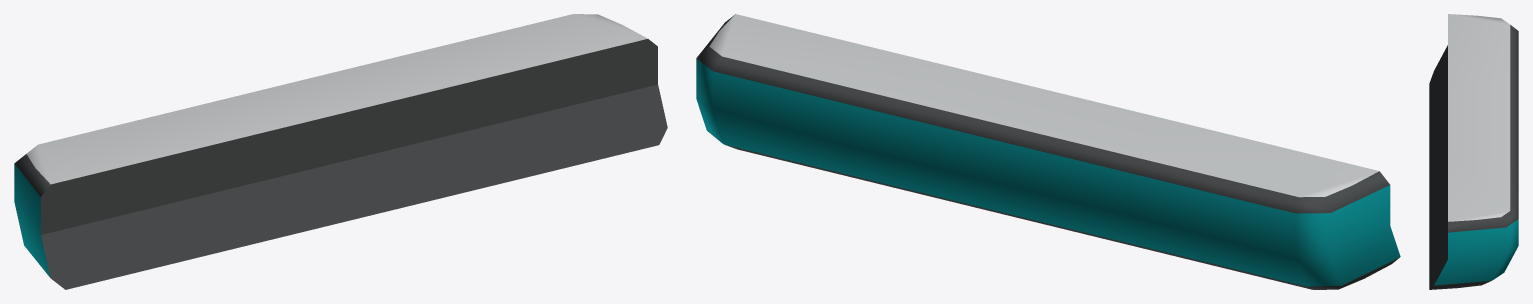
The model's file is Car_14_RearBumper_Simple.fbx.
3 renders of one model, left to right at view 1: azimuth 30°, elevation 25°; view 2: azimuth 150°, elevation 25°; view 3: azimuth 270°, elevation 25°, orthographic. The views are drawn at different scales.
Visible parts, largest first — view 1: Car_14_RearBumper_Simple; view 2: Car_14_RearBumper_Simple; view 3: Car_14_RearBumper_Simple.
Boxes of the visible parts, x1,y1,x2,y2 form: Car_14_RearBumper_Simple: (14, 14, 667, 289); Car_14_RearBumper_Simple: (696, 14, 1400, 289); Car_14_RearBumper_Simple: (1429, 14, 1518, 289).
Size of the model in its own units: 185 by 32.41 by 27.68.
